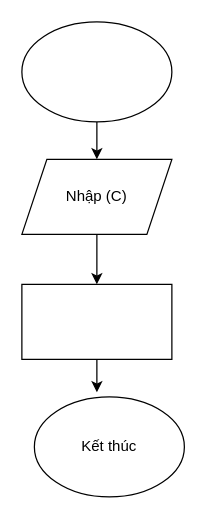
The diagram is 206 pixels wide and 519 high, and some of its shapes have lost their labels. Here are the shapes that lost their labels. From the top down, the box of each, then its label:
(21, 21, 172, 122): Bắt đầu
(21, 283, 172, 359): In (F=C*33.8)
